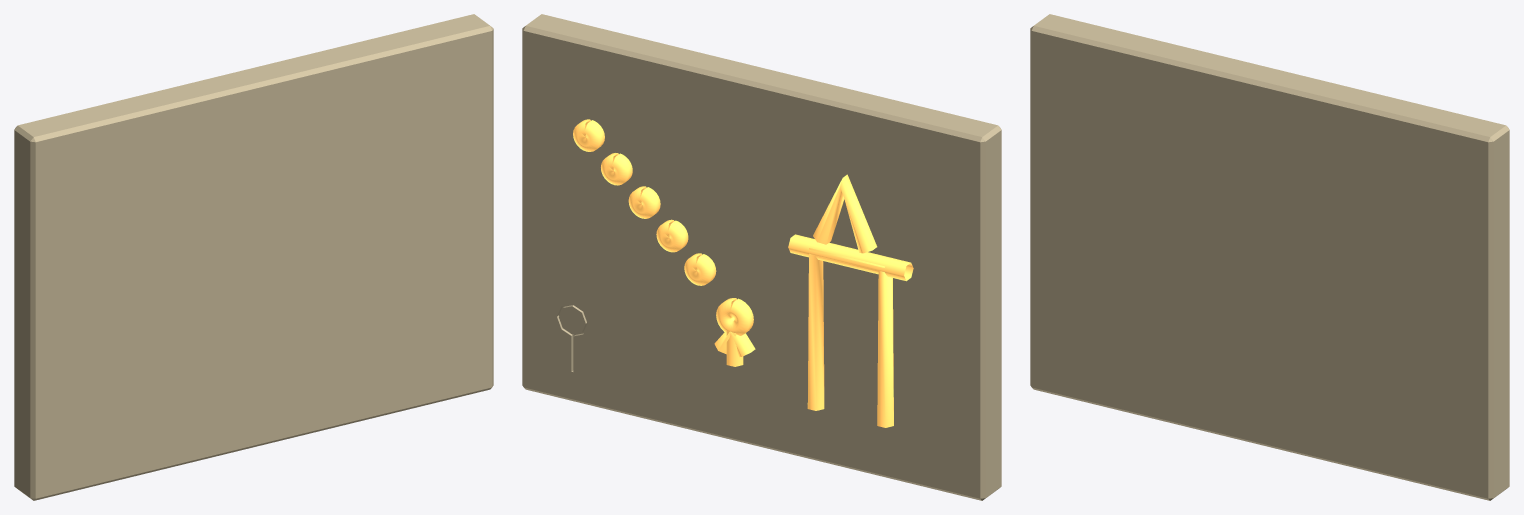
The model's file is mural_5.glb.
3 renders of one model, left to right at view 1: azimuth 30°, elevation 25°; view 2: azimuth 150°, elevation 25°; view 3: azimuth 330°, elevation 25°, orthographic.
Parts seen in each view (by area): view 1: mural_5; view 2: mural_5; view 3: mural_5.
Boxes of the visible parts, x1,y1,x2,y2 form: mural_5: [14, 14, 493, 500]; mural_5: [522, 14, 1001, 500]; mural_5: [1030, 14, 1509, 500].
Bounding box in the file's own units: 4 × 3 × 0.452.
